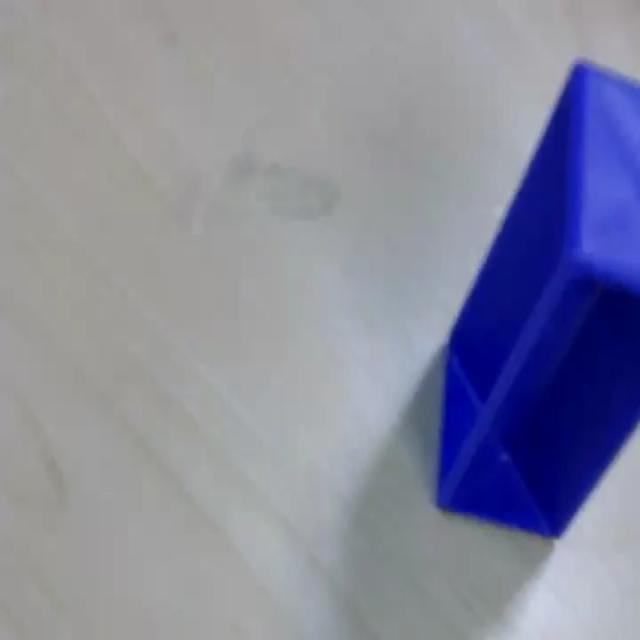blue_block: (434, 55, 638, 540)
